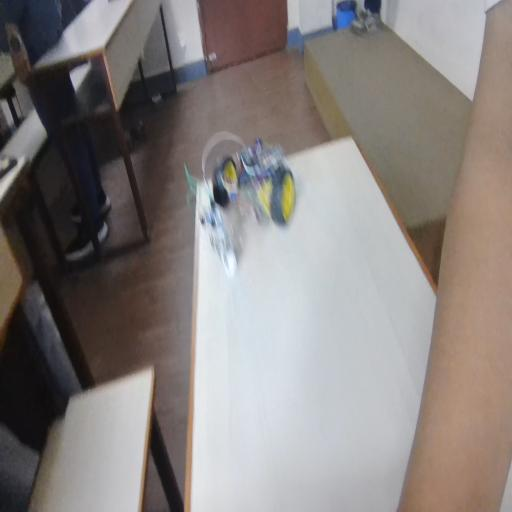car: (205, 134, 297, 275)
